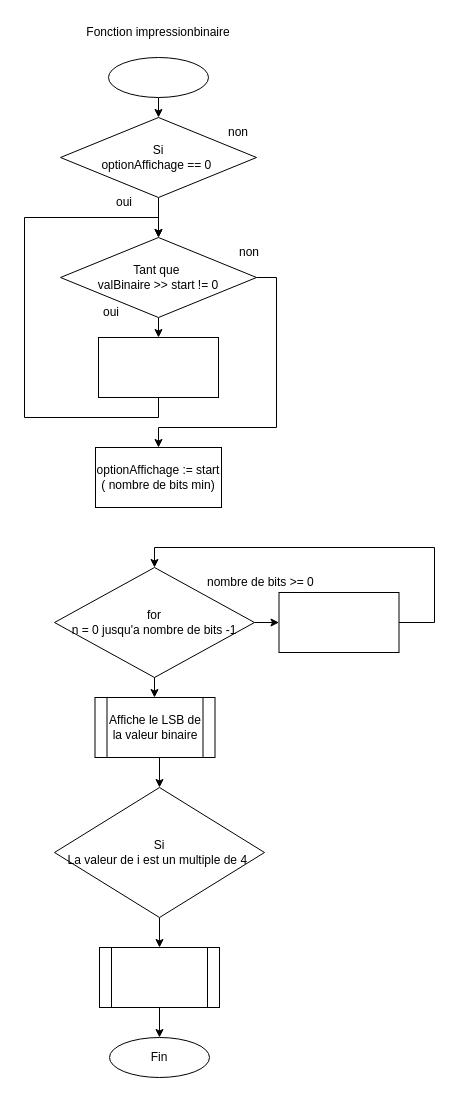
This 460x1095 diagram has some shape labels left out. The shapes that lost their labels are listed below. From the top down, each one's centre as x and y in pixels, then its label:
At (x=158, y=77): "Début".
At (x=158, y=367): "incrémente start de 1".
At (x=338, y=622): "décrémente de 1".
At (x=159, y=977): "Affiche un espace".
